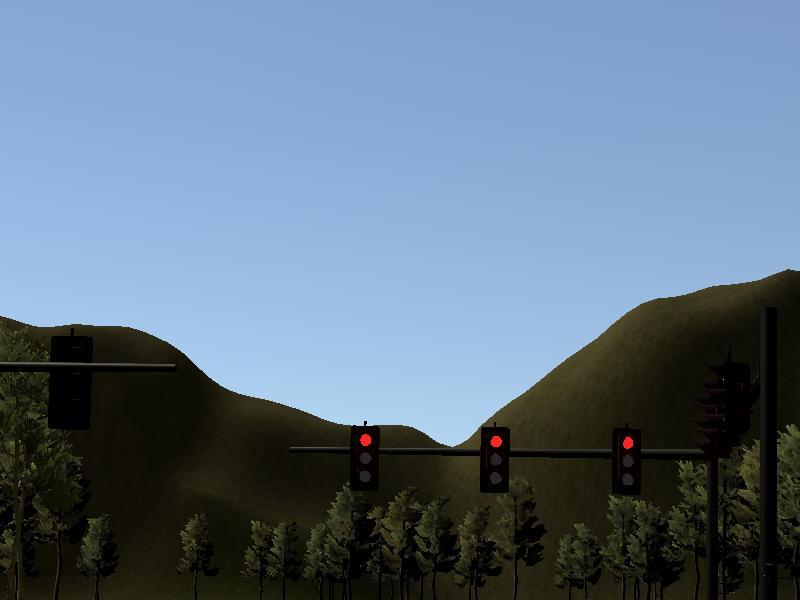Red: (612, 432, 642, 497), (482, 427, 509, 490), (353, 425, 378, 488)
